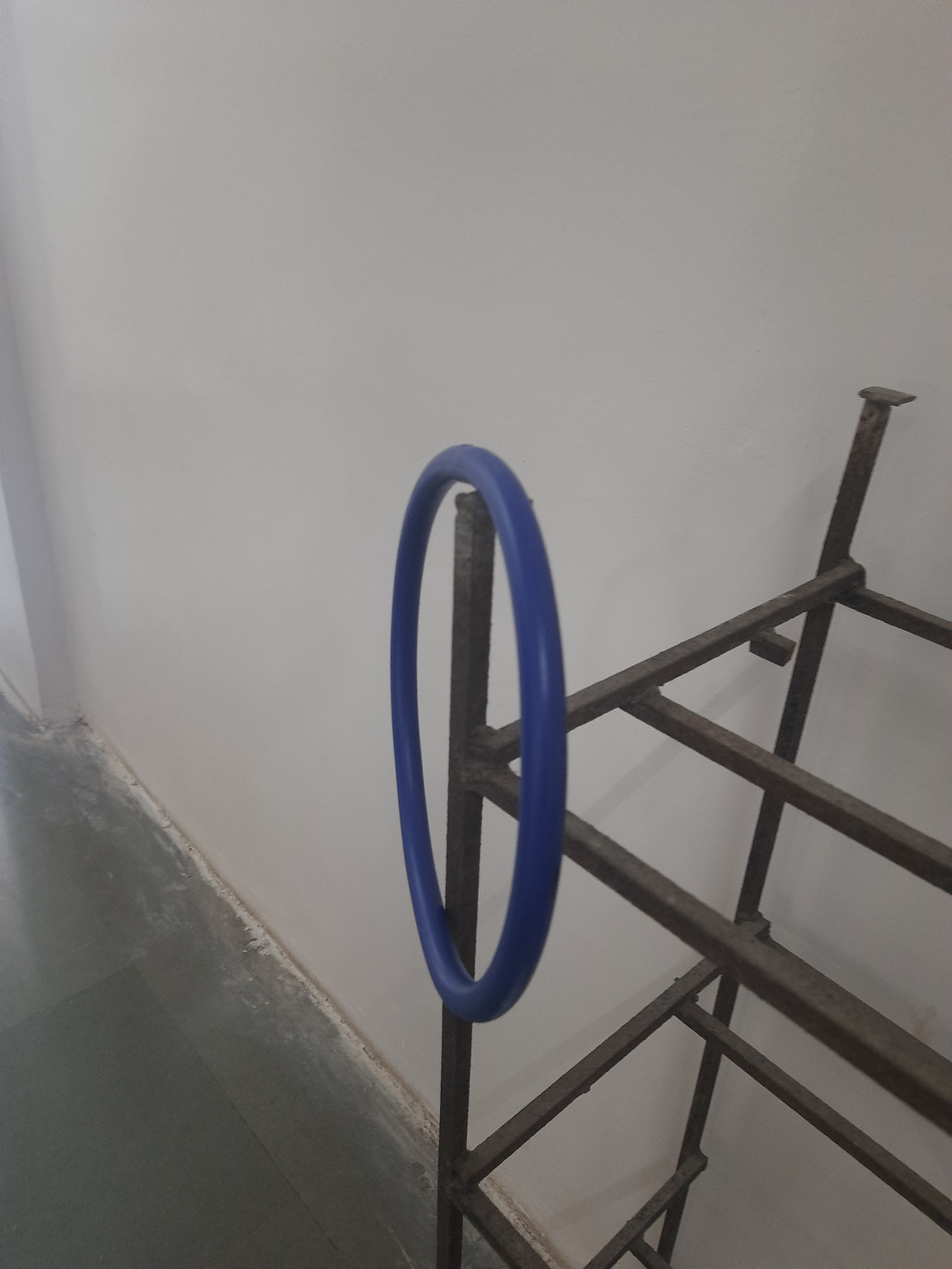Blue ring: (379, 440, 563, 1027)
